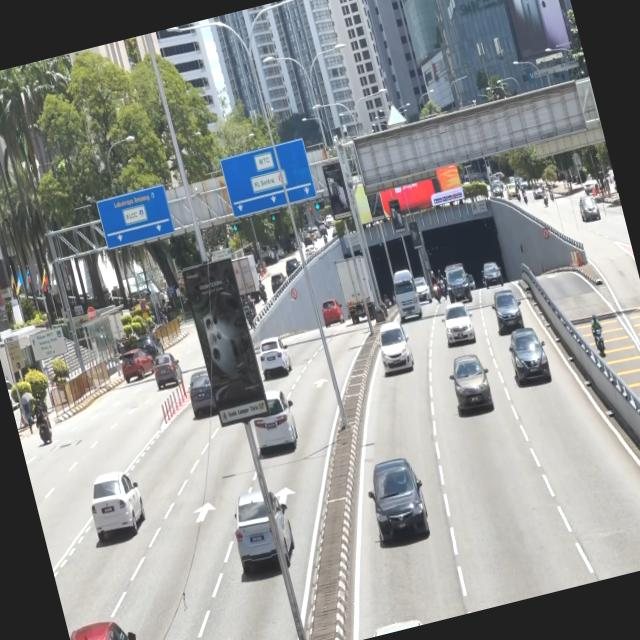Vehicle: (224, 482, 304, 582), (361, 450, 436, 548), (82, 466, 154, 545), (502, 323, 556, 392), (446, 354, 496, 416), (374, 318, 418, 381), (67, 612, 153, 640), (437, 295, 479, 349), (488, 282, 528, 337), (182, 367, 222, 421), (255, 334, 296, 384), (389, 268, 425, 322), (439, 259, 476, 308), (148, 348, 186, 388)
